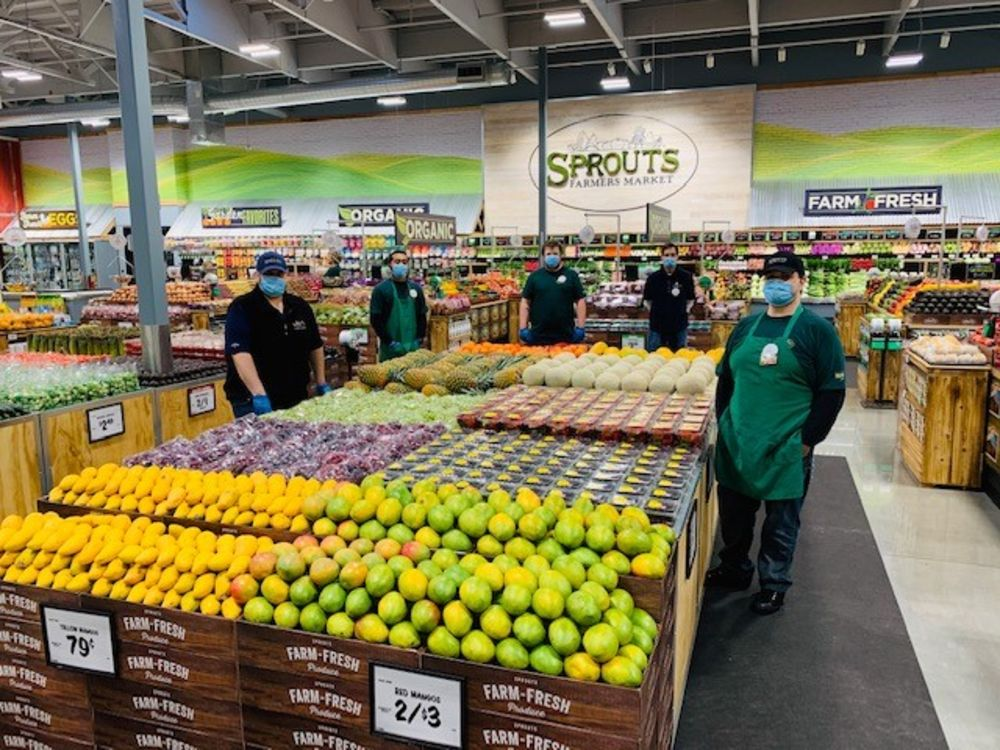Good: (210, 247, 432, 404), (641, 244, 841, 381), (369, 242, 588, 333), (522, 237, 700, 338)
